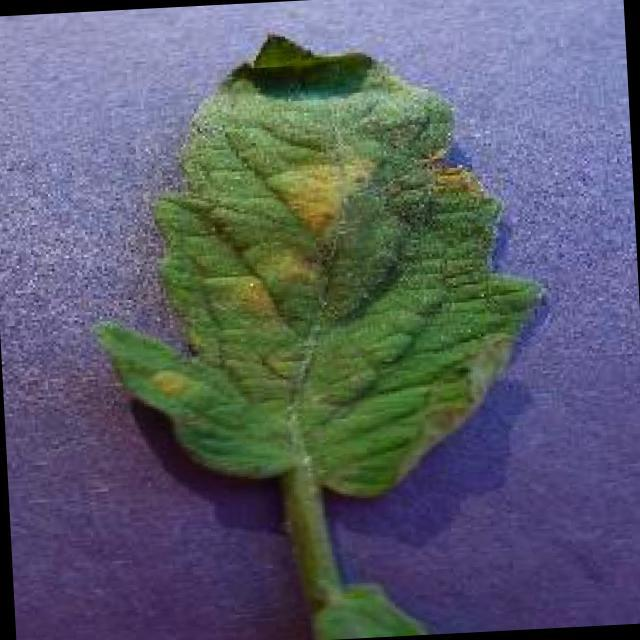Tomato mold leaf: (80, 16, 564, 514)
